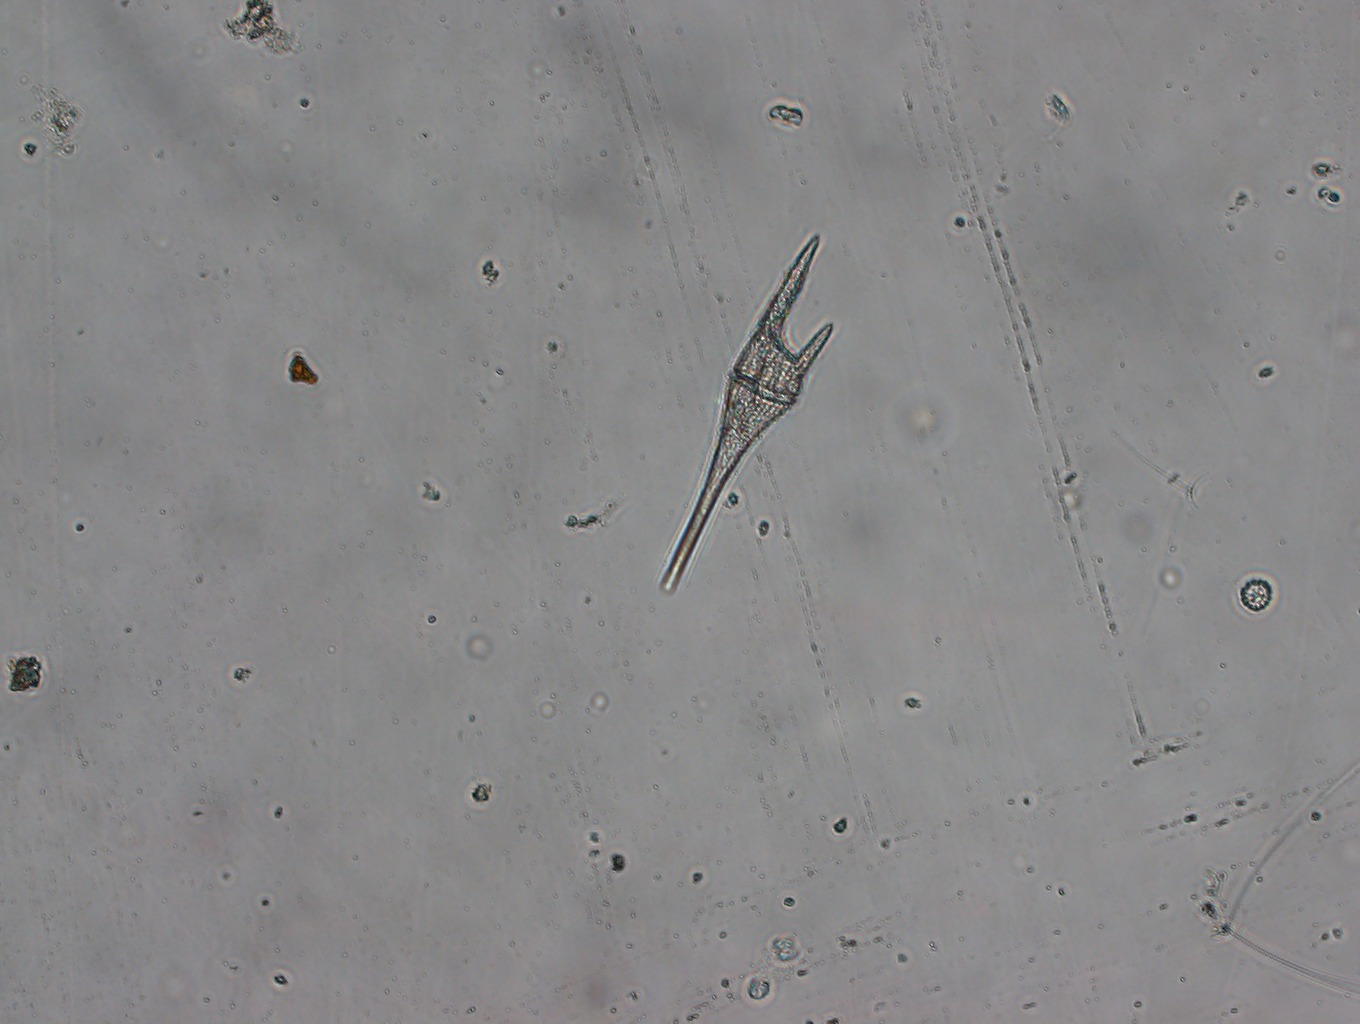ceratium furca: (650, 224, 839, 601)
